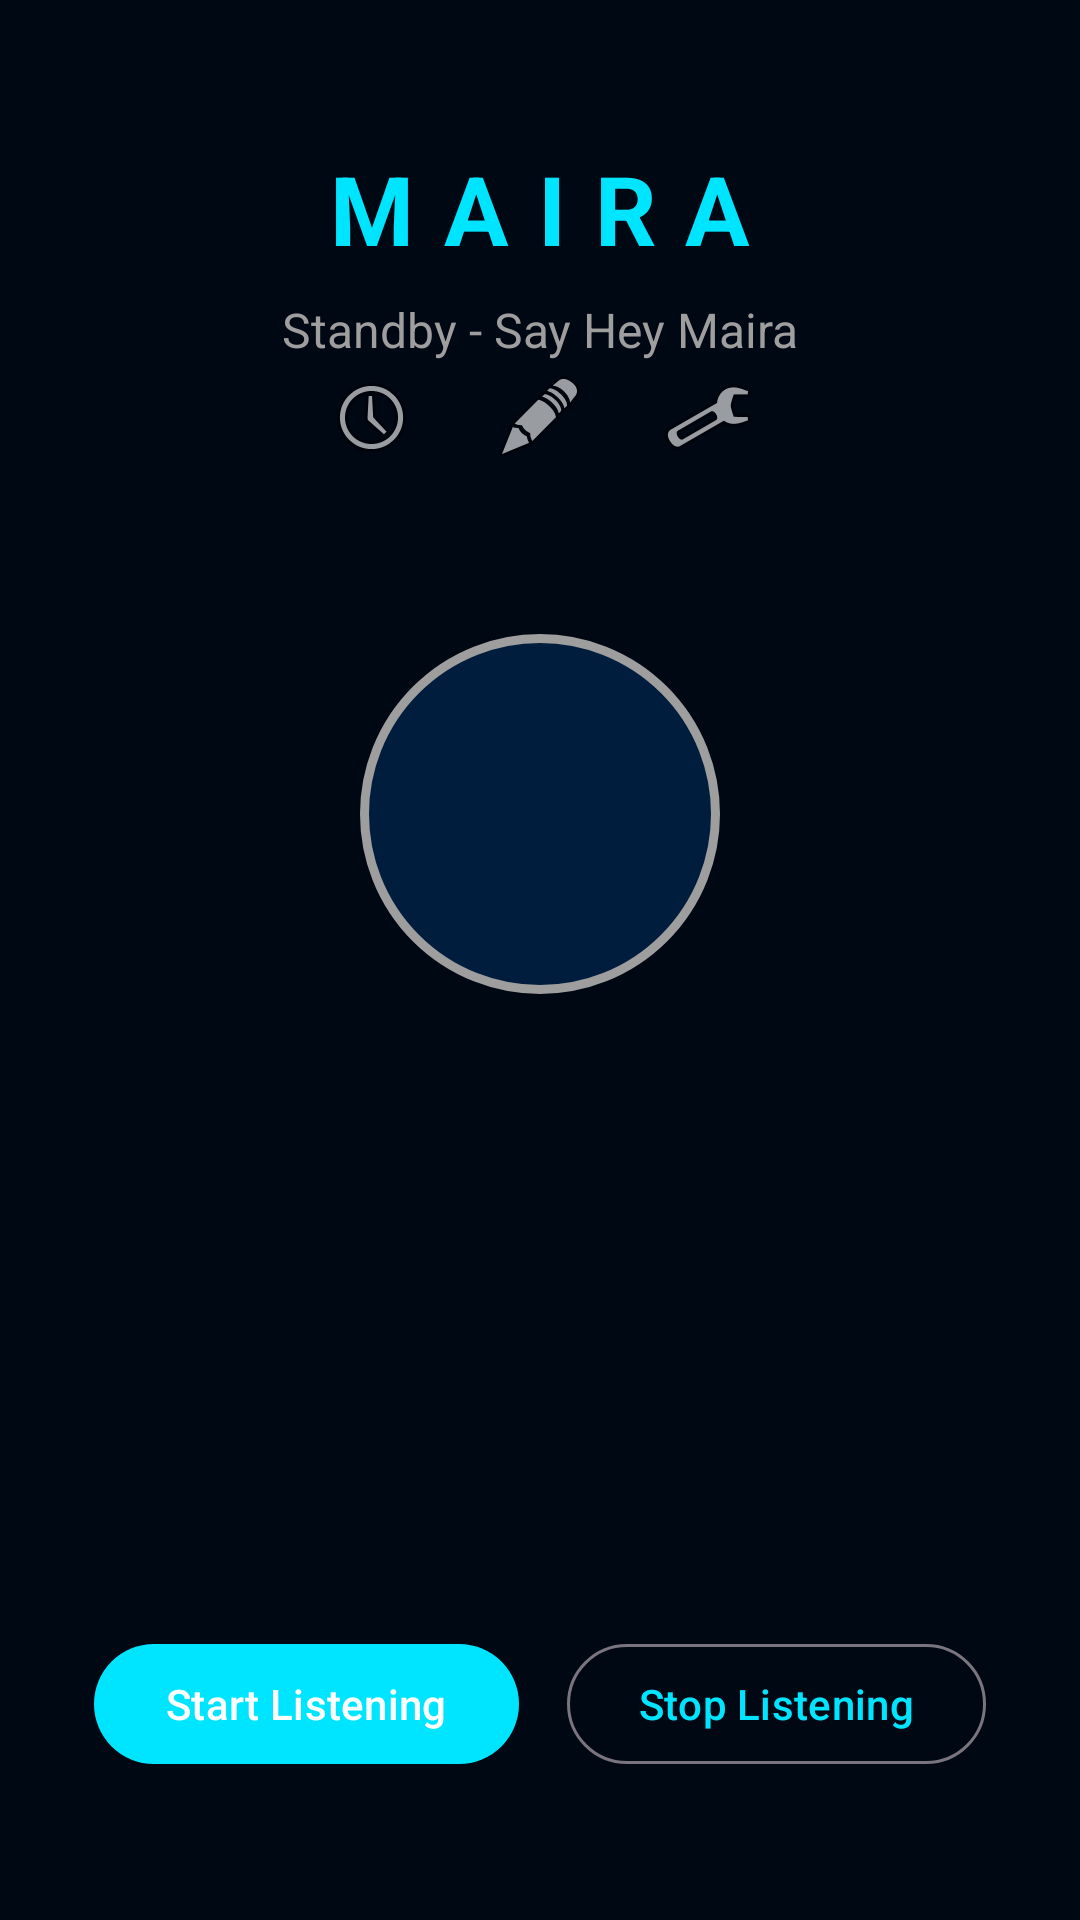

Named icons in this screenshot (1080px×1920px) and their bounding boxes, (x1=x1, y1=y1, x2=x2, y2=y2):
History: (x1=340, y1=386, x2=403, y2=449)
Settings: (x1=668, y1=387, x2=748, y2=447)
